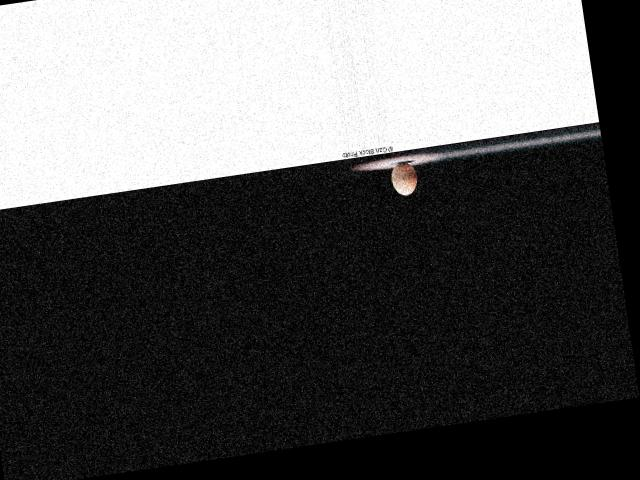egg: (389, 160, 419, 196)
